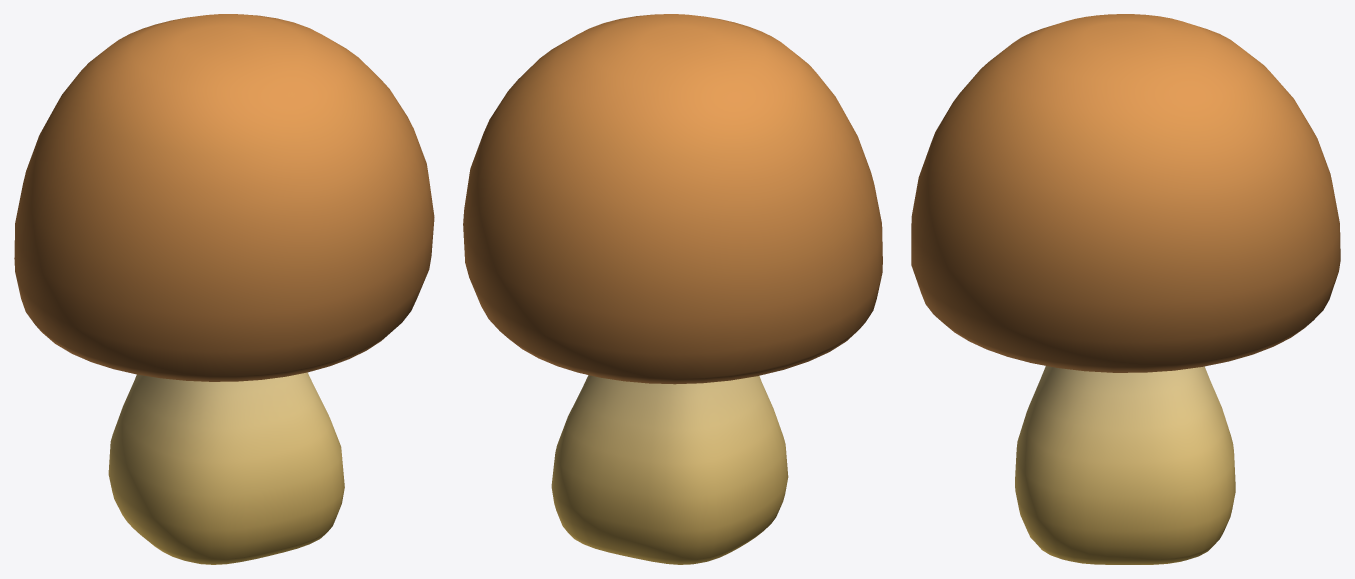
The model's file is Mushroom_0001_0021.fbx.
3 views of the same model, side by side, from view 1: azimuth 30°, elevation 25°; view 2: azimuth 150°, elevation 25°; view 3: azimuth 270°, elevation 25° (orthographic).
Visible parts, largest first — view 1: Mushroom_0001_0021; view 2: Mushroom_0001_0021; view 3: Mushroom_0001_0021.
Part boxes in pixels (left/top/right/bottom): Mushroom_0001_0021: left=14, top=14, right=434, bottom=564; Mushroom_0001_0021: left=463, top=14, right=882, bottom=564; Mushroom_0001_0021: left=911, top=14, right=1340, bottom=564.
Size of the model in its own units: 0.1532 by 0.1972 by 0.1563.
Materials: 1 (1 with a texture image).
